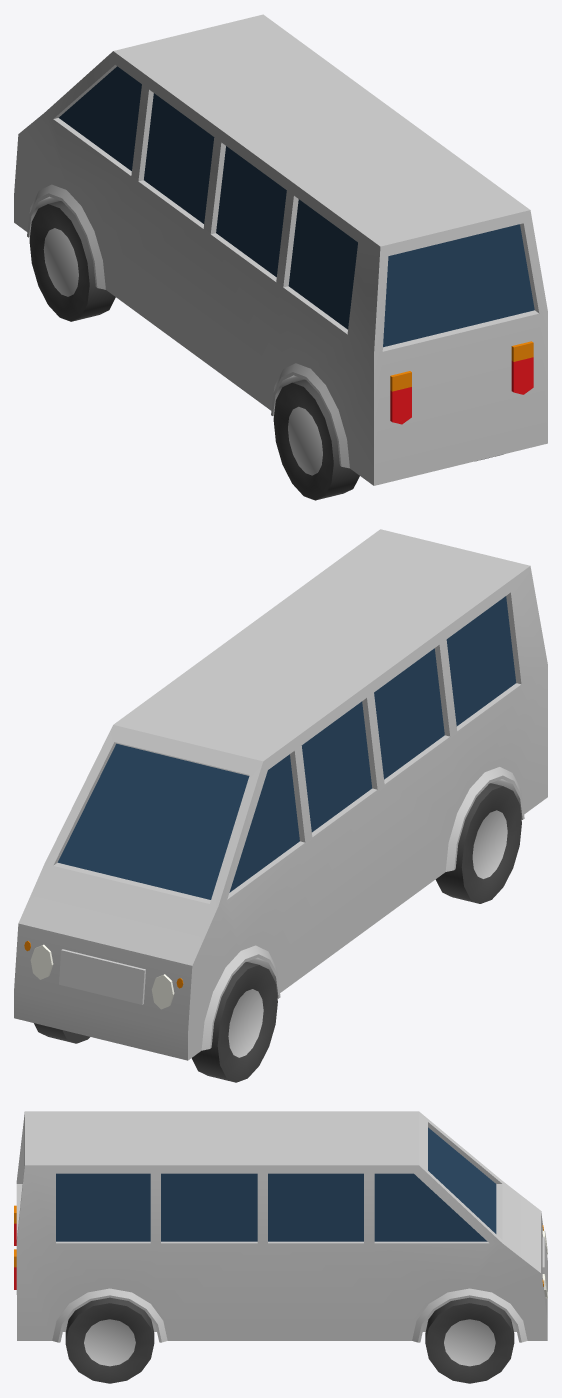
Rendered from coach.glb.
3 views of the same model, one above another, from view 1: azimuth 30°, elevation 25°; view 2: azimuth 150°, elevation 25°; view 3: azimuth 270°, elevation 25° (orthographic). The views are drawn at different scales.
Parts seen in each view (by area): view 1: Coach; view 2: Coach; view 3: Coach.
Part boxes in pixels (bbox=[...]): Coach: bbox=[14, 14, 547, 500]; Coach: bbox=[14, 529, 547, 1082]; Coach: bbox=[14, 1111, 547, 1383].
Size of the model in its own units: 1.51 by 2.21 by 5.05.
